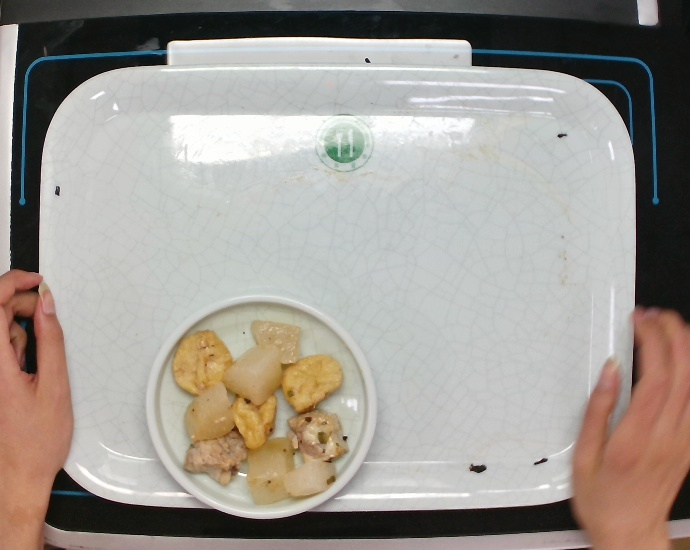JYsf-Xiao_Yuan_Pan: (143, 288, 383, 524)
